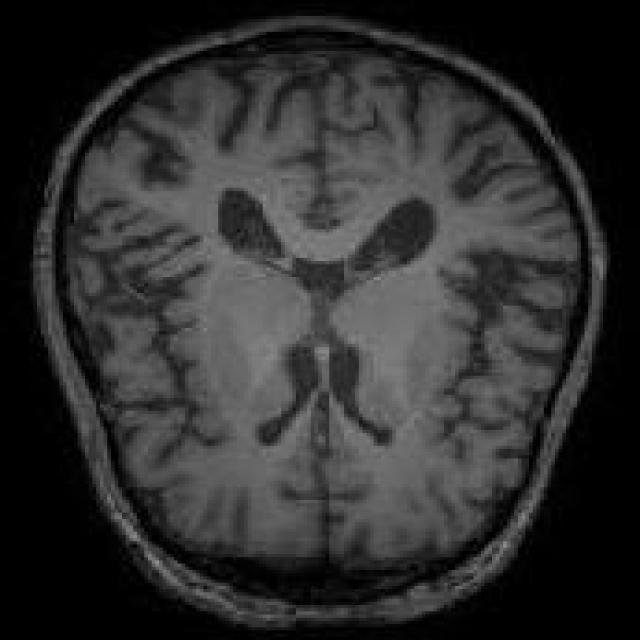notumor: (37, 19, 603, 624)
